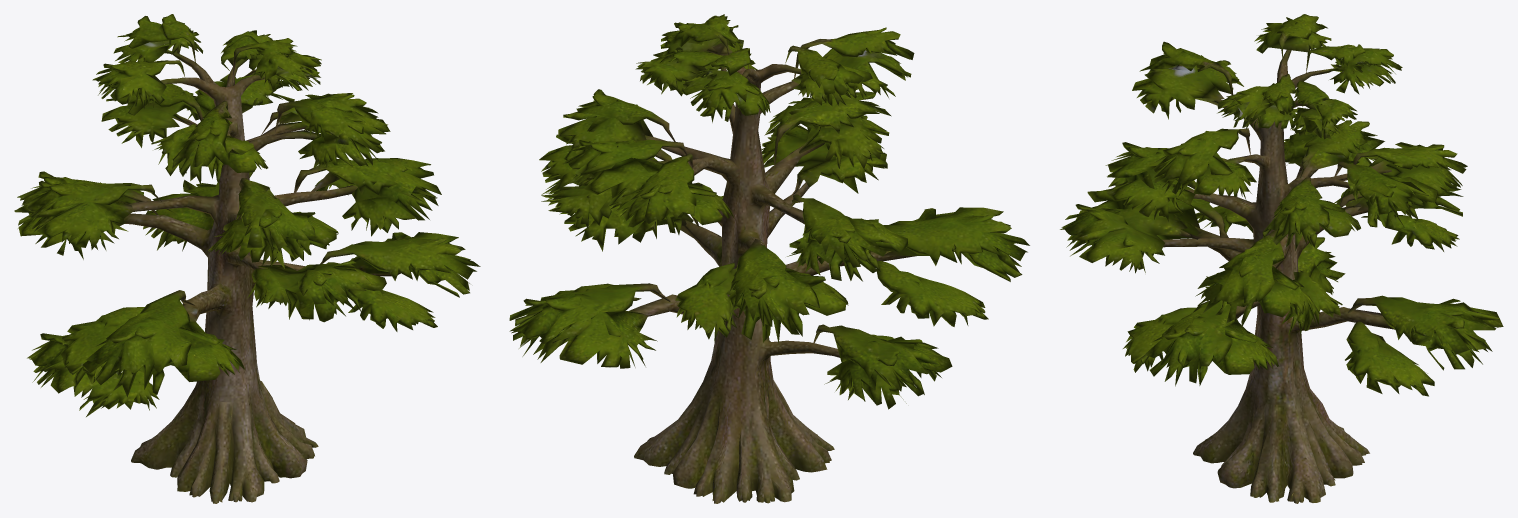
The model's file is cypress.glb.
3 renders of one model, left to right at view 1: azimuth 30°, elevation 25°; view 2: azimuth 150°, elevation 25°; view 3: azimuth 270°, elevation 25°, orthographic. The views are drawn at different scales.
Parts seen in each view (by area): view 1: tripo_node_2b70825d-6fca-47bc-aac8-b77ad632a089; view 2: tripo_node_2b70825d-6fca-47bc-aac8-b77ad632a089; view 3: tripo_node_2b70825d-6fca-47bc-aac8-b77ad632a089.
Part boxes in pixels (left/top/right/bottom): tripo_node_2b70825d-6fca-47bc-aac8-b77ad632a089: left=14, top=14, right=480, bottom=503; tripo_node_2b70825d-6fca-47bc-aac8-b77ad632a089: left=509, top=14, right=1029, bottom=503; tripo_node_2b70825d-6fca-47bc-aac8-b77ad632a089: left=1060, top=14, right=1503, bottom=503.
Size of the model in its own units: 22.09 by 22 by 21.74.
Materials: 1 (1 with a texture image).
